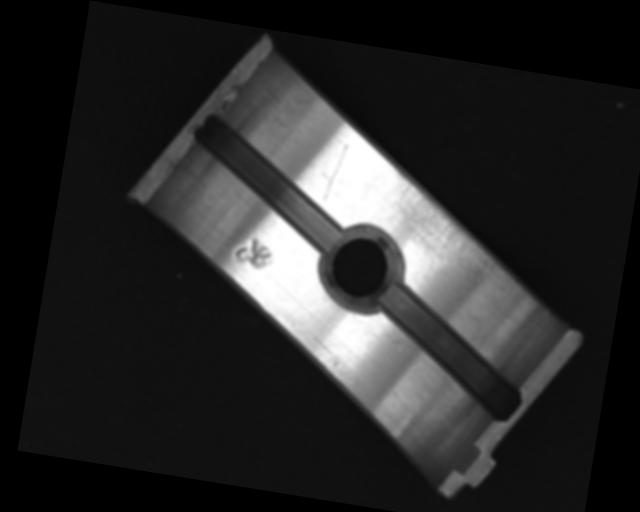bruise: (231, 229, 278, 271)
gap: (361, 281, 537, 423), (179, 113, 357, 251)
hole: (312, 221, 409, 321)
nick: (320, 141, 349, 205)
scratch: (374, 166, 515, 290)
